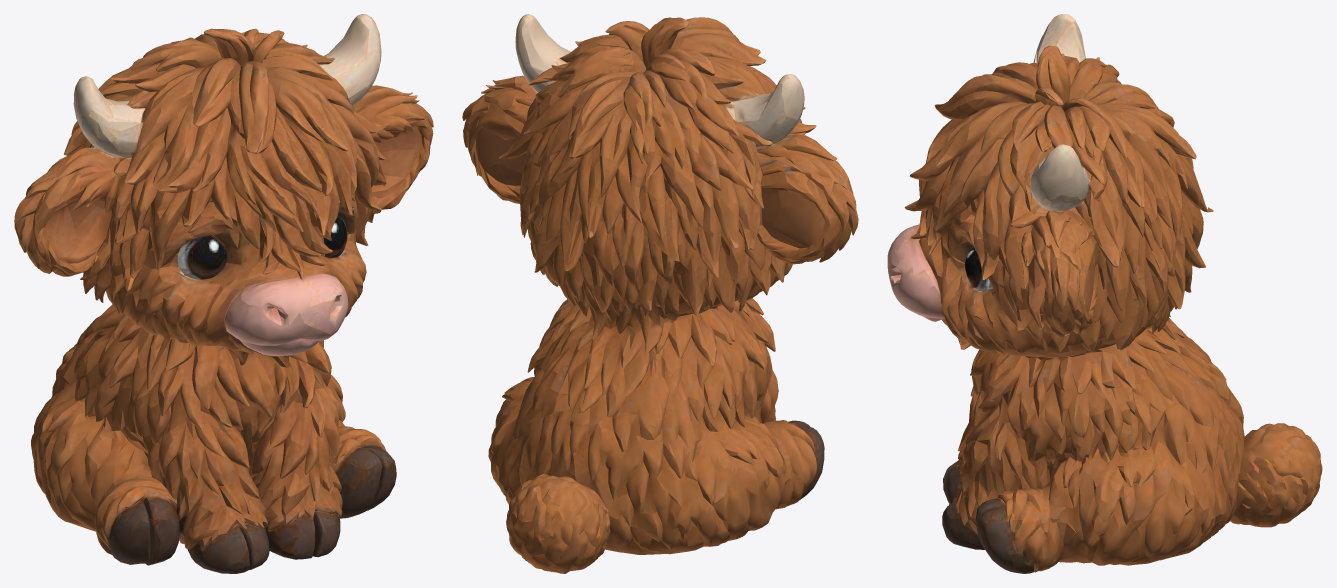
The picture shows the model from 3 angles, left to right: view 1: azimuth 30°, elevation 25°; view 2: azimuth 150°, elevation 25°; view 3: azimuth 270°, elevation 25°; orthographic projection. The views are drawn at different scales.
Visible parts, largest first — view 1: output_unwrapped; view 2: output_unwrapped; view 3: output_unwrapped.
Part boxes in pixels (x1,y1,x2,y2): output_unwrapped: [14, 14, 433, 573]; output_unwrapped: [462, 14, 858, 573]; output_unwrapped: [887, 14, 1322, 573].
Bounding box in the file's own units: 1.67 × 1.9 × 1.61.
Materials: 1 (1 with a texture image).
